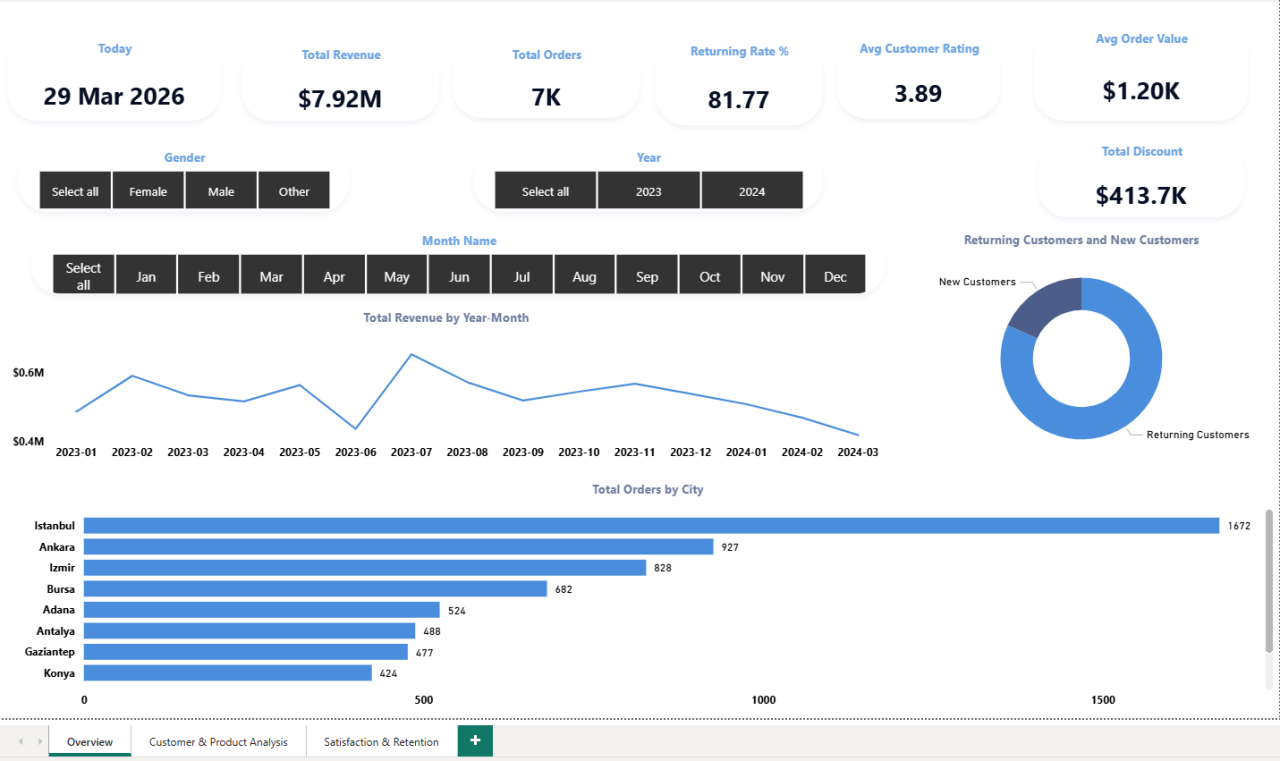

This screenshot's page, from the dashboard's own definition file:
{"tool":"powerbi","page":{"name":"Overview ","canvas":[1280,720],"ordinal":0},"visuals":[{"type":"cardVisual","title":"Total  Revenue","fields":{"Data":["Final_Predictions_DM.Total Revenue"]},"box":[241.8,45.7,197.9,76.1],"z":0},{"type":"cardVisual","title":"Returning Rate %","fields":{"Data":["Final_Predictions_DM.Returning Rate %"]},"box":[656.4,42.1,166.6,84.2],"z":1000},{"type":"cardVisual","title":"Avg Customer Rating","fields":{"Data":["Final_Predictions_DM.Avg Customer Rating"]},"box":[838.2,39.4,163,79.7],"z":2000},{"type":"cardVisual","title":"Total  Orders ","fields":{"Data":["Final_Predictions_DM.Total Orders"]},"box":[453.1,45.7,187.2,72.5],"z":3000},{"type":"lineChart","fields":{"Y":["Final_Predictions_DM.Total Revenue"],"Category":["DateTable.Year-Month"]},"box":[7.2,309.9,879.4,162.1],"z":4000},{"type":"clusteredBarChart","fields":{"Category":["Final_Predictions_DM.City"],"Y":["Final_Predictions_DM.Total Orders"]},"box":[17.9,481.8,1261.8,238.2],"z":5000},{"type":"donutChart","fields":{"Y":["Final_Predictions_DM.Returning Customers","Final_Predictions_DM.New_Customers"]},"box":[896.4,231.9,372.5,240],"z":6000},{"type":"slicer","title":"Gender","fields":{"Values":["Final_Predictions_DM.Gender"]},"box":[17.9,148.7,332.2,64.5],"z":7000},{"type":"slicer","title":"Year","fields":{"Values":["DateTable.Year"]},"box":[473.7,148.7,350.1,64.5],"z":8000},{"type":"slicer","title":"Month Name","fields":{"Values":["DateTable.Month Name"]},"box":[31.3,231.9,855.2,64.5],"z":9000},{"type":"cardVisual","title":"Today","fields":{"Data":["DateTable.Today's Date"]},"box":[7.2,39.4,214,82.4],"z":10000},{"type":"cardVisual","title":"Avg Order Value","fields":{"Data":["Final_Predictions_DM.Avg Order Value"]},"box":[1035.2,29.6,214,92.2],"z":11000},{"type":"cardVisual","title":"Total Discount","fields":{"Data":["Final_Predictions_DM.Total Discount"]},"box":[1039.7,142.4,206,76.1],"z":12000}]}

Visuals, with their boxes on the page's 1280x720 design canvas (x1, y1, x2, y2). These are canvas units, not pixel positions in the 1280x761 screenshot, which may show the page scaled, cropped or inside an application window:
"Total  Revenue" cardVisual: crop(242, 46, 440, 122)
"Returning Rate %" cardVisual: crop(656, 42, 823, 126)
"Avg Customer Rating" cardVisual: crop(838, 39, 1001, 119)
"Total  Orders " cardVisual: crop(453, 46, 640, 118)
lineChart - Final_Predictions_DM.Total Revenue x DateTable.Year-Month: crop(7, 310, 887, 472)
clusteredBarChart - Final_Predictions_DM.City x Final_Predictions_DM.Total Orders: crop(18, 482, 1280, 720)
donutChart - Final_Predictions_DM.Returning Customers x Final_Predictions_DM.New_Customers: crop(896, 232, 1269, 472)
"Gender" slicer: crop(18, 149, 350, 213)
"Year" slicer: crop(474, 149, 824, 213)
"Month Name" slicer: crop(31, 232, 886, 296)
"Today" cardVisual: crop(7, 39, 221, 122)
"Avg Order Value" cardVisual: crop(1035, 30, 1249, 122)
"Total Discount" cardVisual: crop(1040, 142, 1246, 218)
